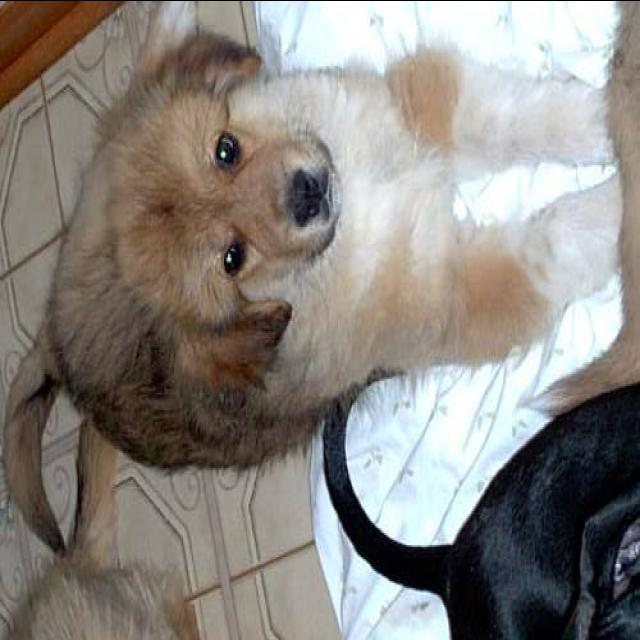dog: (0, 0, 515, 563)
